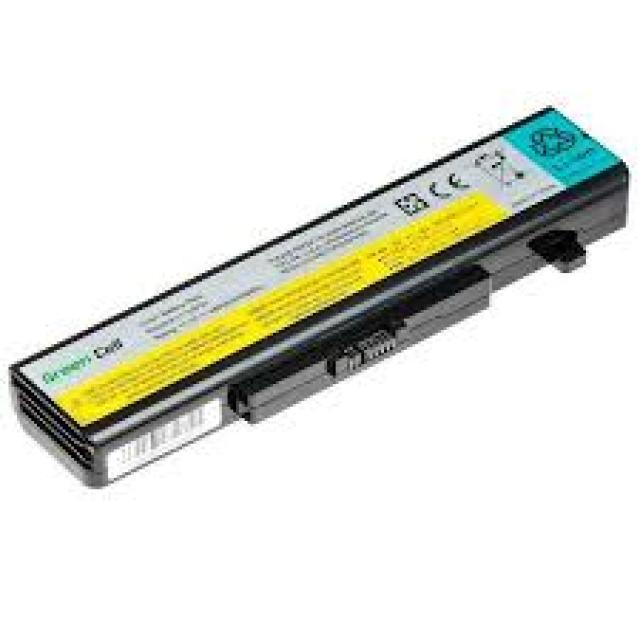Battery: (9, 100, 633, 502)
